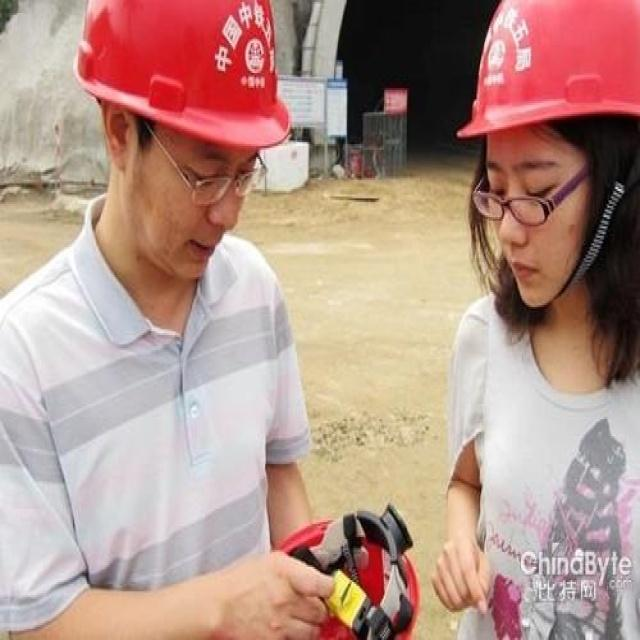helmet: (58, 0, 311, 395), (440, 0, 640, 449)
